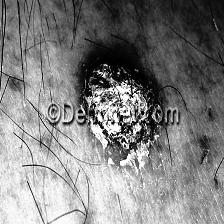Benign Marking or Mole: (81, 55, 156, 166)
